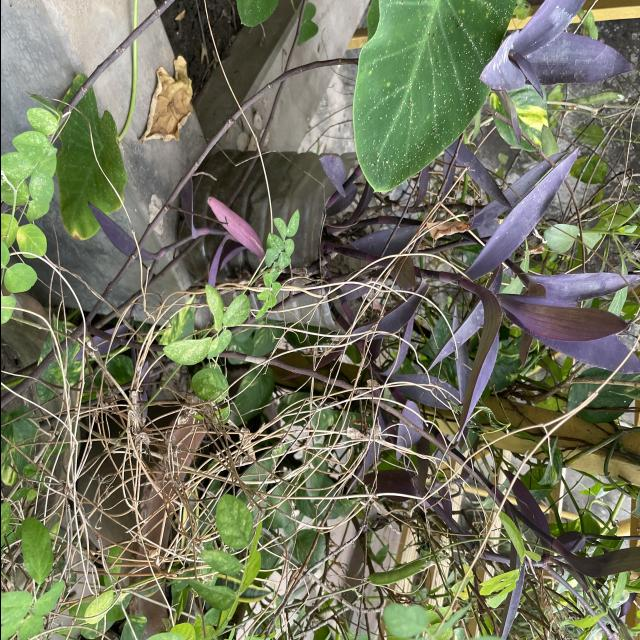Breeding Place: (172, 157, 394, 350), (123, 409, 280, 640)
